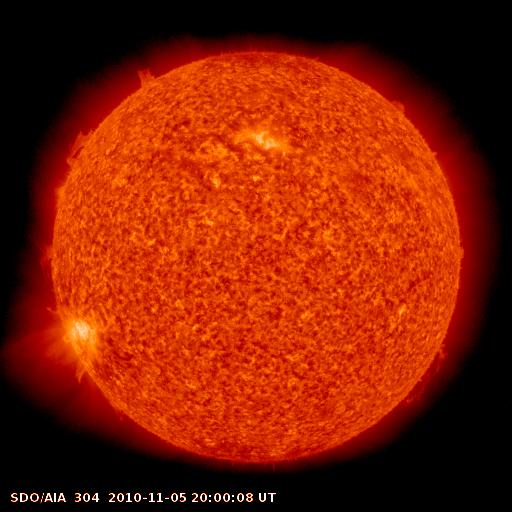prominence: (395, 331, 457, 413), (31, 182, 72, 281), (58, 123, 107, 173), (126, 55, 165, 98), (381, 91, 417, 127)
